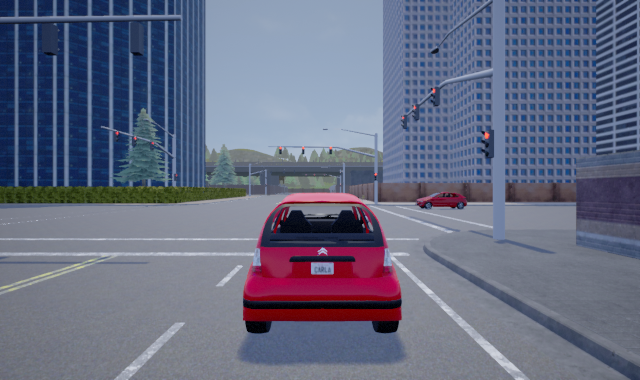vehicle: (242, 193, 402, 334), (417, 192, 467, 209)
